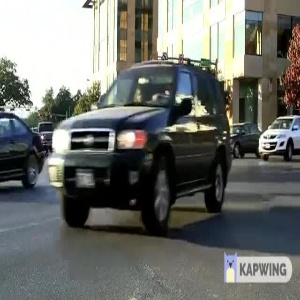suv: (37, 56, 235, 229), (257, 113, 300, 161)
